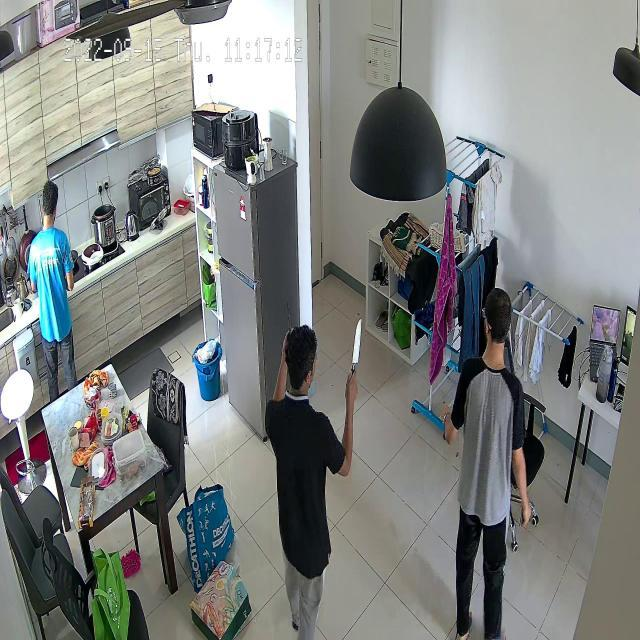Knife: (341, 315, 376, 377)
